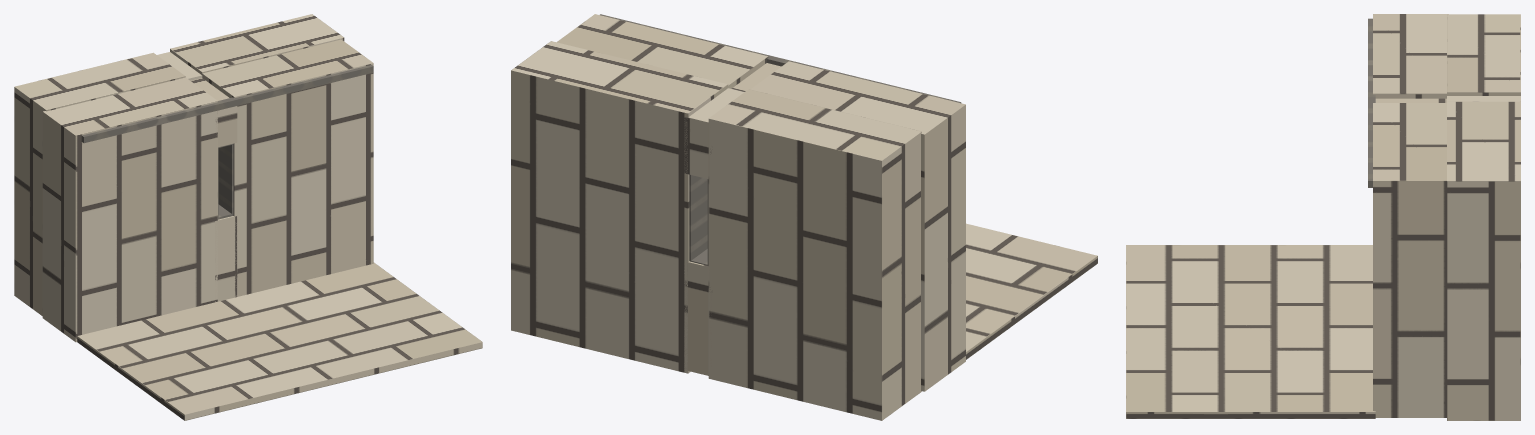
The model's file is castle_loop.glb.
3 views of the same model, side by side, from view 1: azimuth 30°, elevation 25°; view 2: azimuth 150°, elevation 25°; view 3: azimuth 270°, elevation 25° (orthographic). The views are drawn at different scales.
Parts seen in each view (by area): view 1: castle_loop; view 2: castle_loop; view 3: castle_loop.
Boxes of the visible parts, left/top/right/bottom form: castle_loop: left=14, top=14, right=482, bottom=420; castle_loop: left=511, top=14, right=1097, bottom=420; castle_loop: left=1126, top=14, right=1520, bottom=420.
Size of the model in its own units: 4.04 by 2.68 by 4.
1 material, 1 textured.
